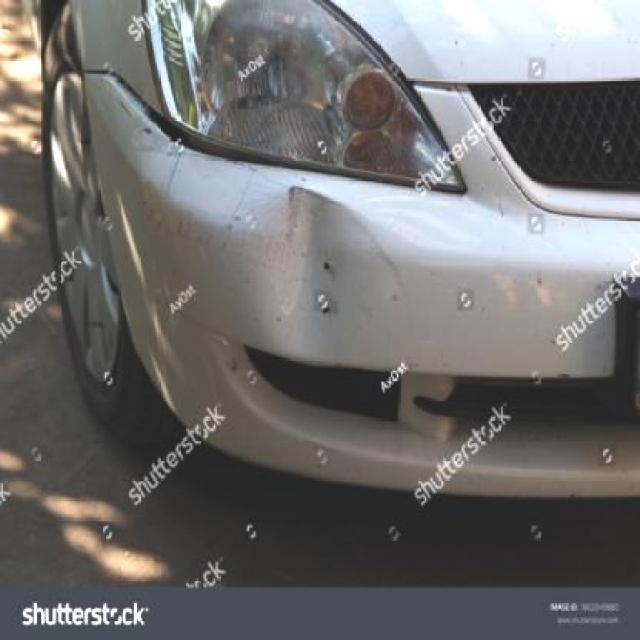minor: (288, 188, 403, 320)
